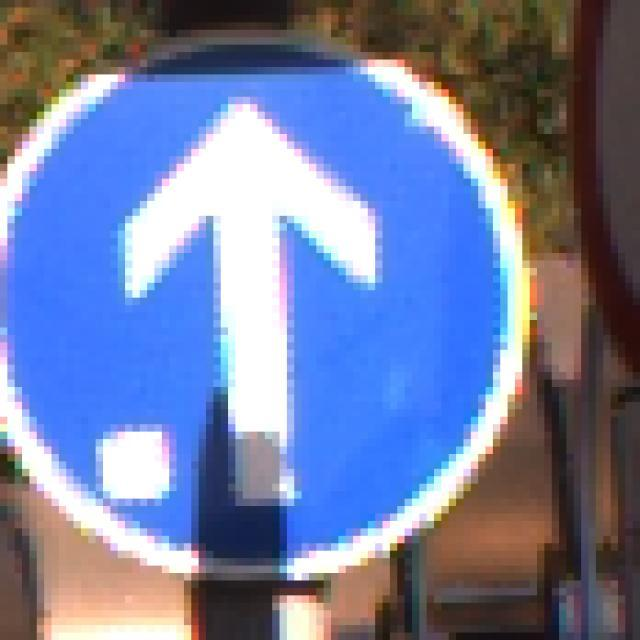compulsary ahead: (8, 43, 507, 570)
